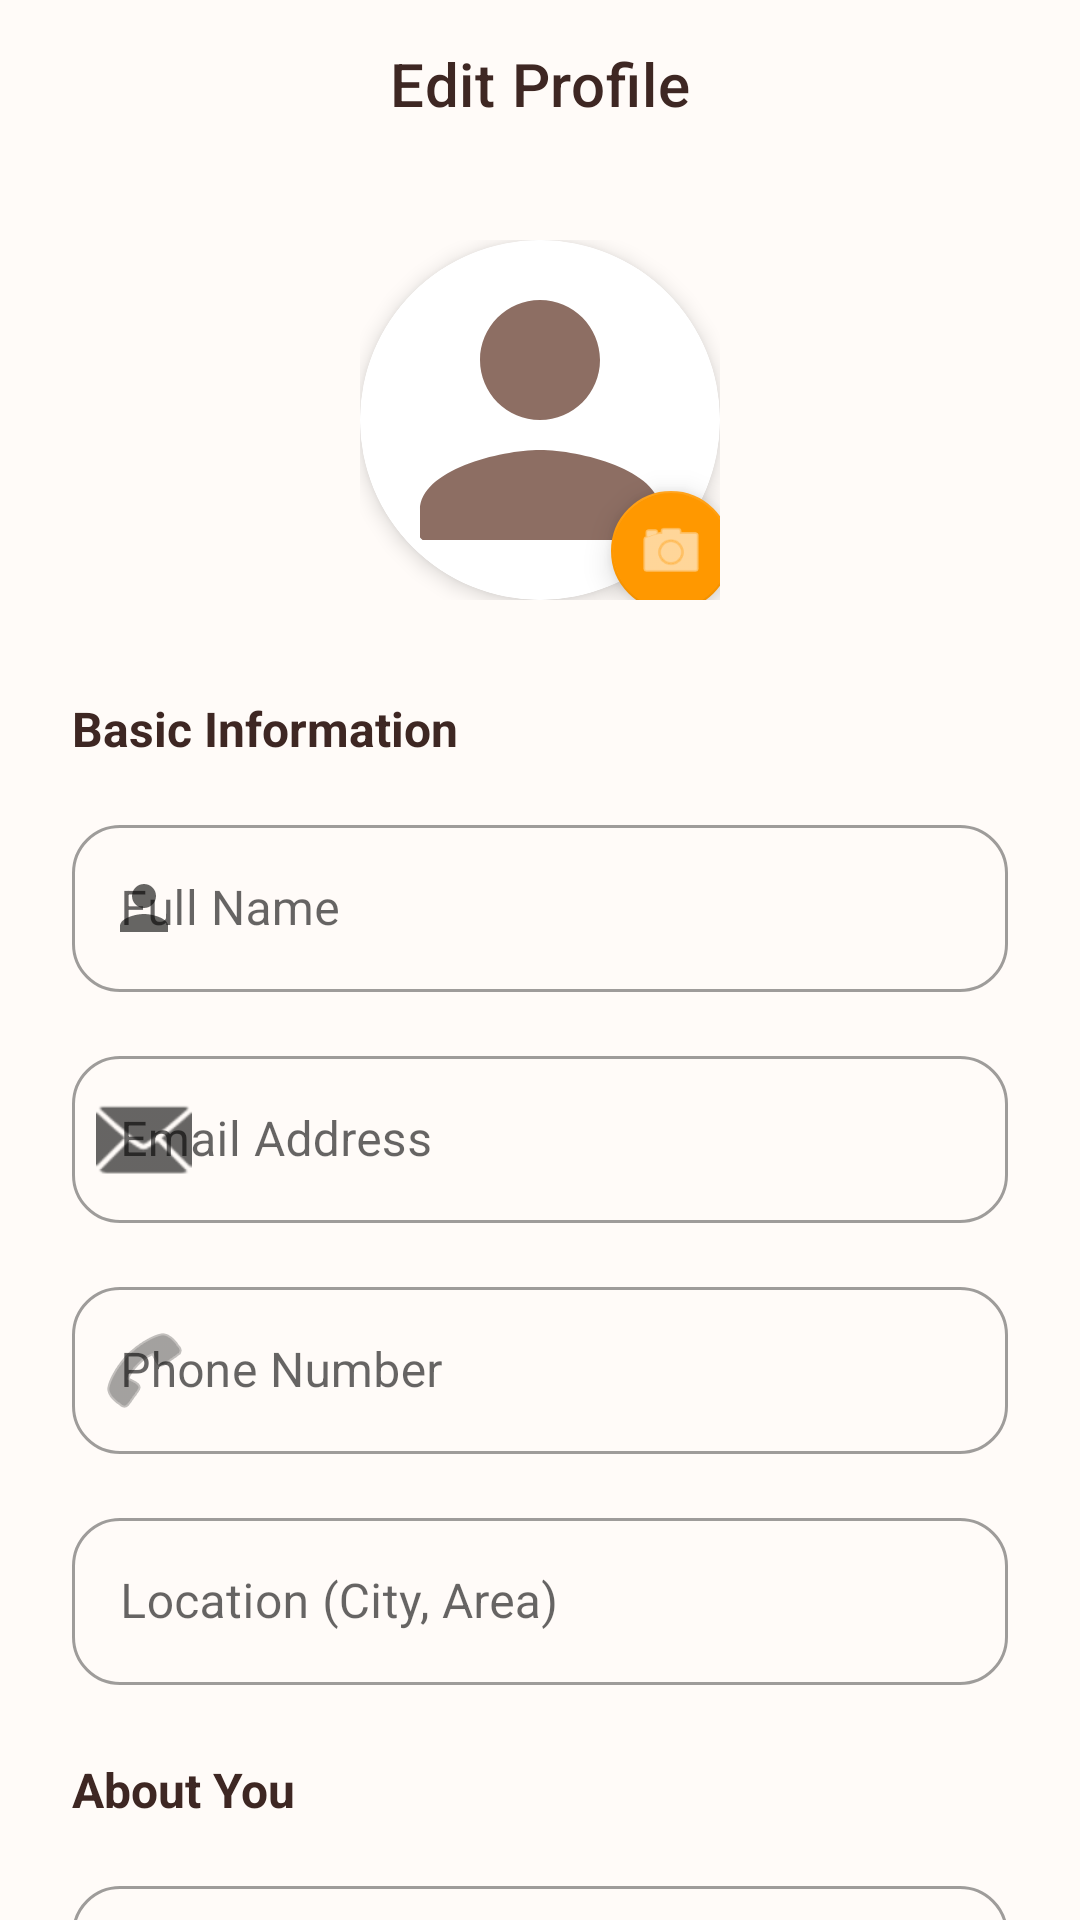

Icons on this 1080x1920 Android screen, each with its box as [x1,y1,x2,y2]:
user: [366,300,720,600]
